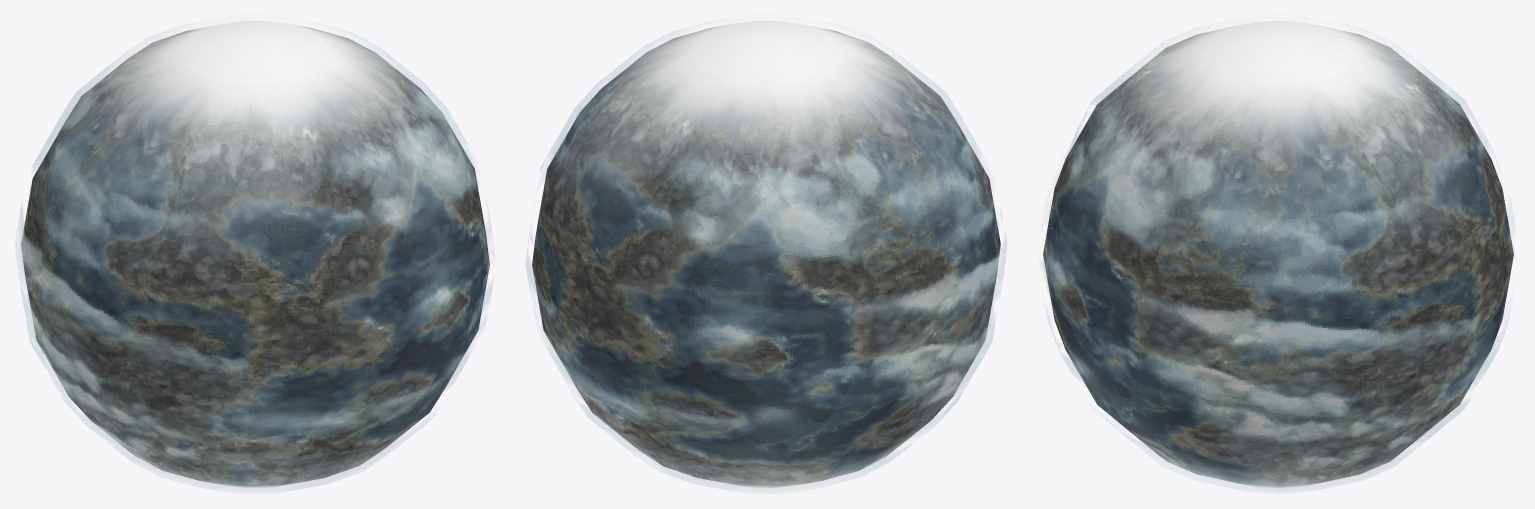
File: earth_two_cmp.gltf
The picture shows the model from 3 angles, left to right: view 1: azimuth 30°, elevation 25°; view 2: azimuth 150°, elevation 25°; view 3: azimuth 270°, elevation 25°; orthographic projection.
Visible parts, largest first — view 1: Root, clouds; view 2: Root, clouds; view 3: Root, clouds.
Part boxes in pixels (x1,y1,x2,y2): Root: [21, 20, 489, 488]; clouds: [16, 14, 492, 494]; Root: [532, 20, 1000, 488]; clouds: [525, 14, 1007, 494]; Root: [1043, 20, 1513, 488]; clouds: [1042, 14, 1509, 494].
Size of the model in its own units: 44.28 by 44.28 by 44.28.
Materials: 2 (2 with a texture image).
